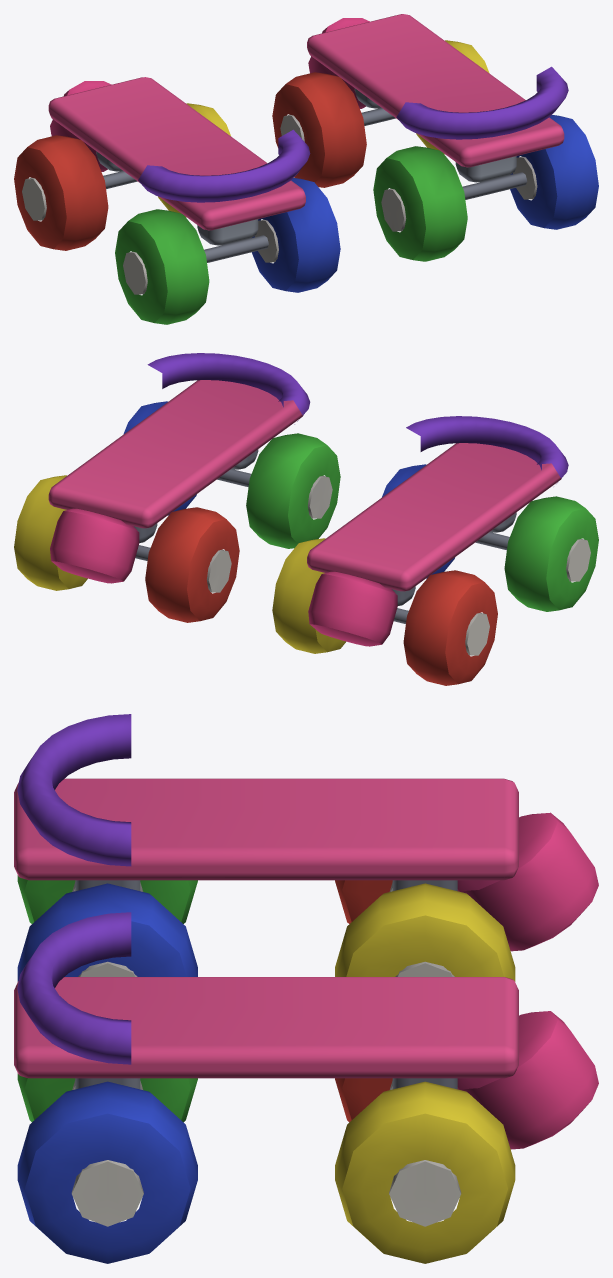
Rendered from costume_skates__285.glb.
The picture shows the model from 3 angles, top to bottom: view 1: azimuth 30°, elevation 25°; view 2: azimuth 150°, elevation 25°; view 3: azimuth 270°, elevation 25°; orthographic projection. The views are drawn at different scales.
Visible parts, largest first — view 1: merged_toon_ffffff, merged_toon_ffffff_1, merged_toon_98A0AC, merged_toon_98A0AC_1; view 2: merged_toon_ffffff, merged_toon_ffffff_1, merged_toon_98A0AC_1, merged_toon_98A0AC; view 3: merged_toon_ffffff_1, merged_toon_ffffff, merged_toon_98A0AC_1, merged_toon_98A0AC.
Boxes of the visible parts, bbox=[...] form: merged_toon_ffffff: bbox=[14, 77, 340, 324]; merged_toon_ffffff_1: bbox=[272, 14, 598, 261]; merged_toon_98A0AC: bbox=[96, 151, 268, 262]; merged_toon_98A0AC_1: bbox=[354, 88, 527, 199]; merged_toon_ffffff: bbox=[272, 416, 598, 685]; merged_toon_ffffff_1: bbox=[14, 353, 340, 622]; merged_toon_98A0AC_1: bbox=[134, 449, 258, 560]; merged_toon_98A0AC: bbox=[392, 512, 516, 624]; merged_toon_ffffff_1: bbox=[14, 912, 598, 1263]; merged_toon_ffffff: bbox=[14, 714, 598, 981]; merged_toon_98A0AC_1: bbox=[75, 1078, 457, 1089]; merged_toon_98A0AC: bbox=[75, 880, 457, 891].
Size of the model in its own units: 0.448 by 0.1444 by 0.3244.
